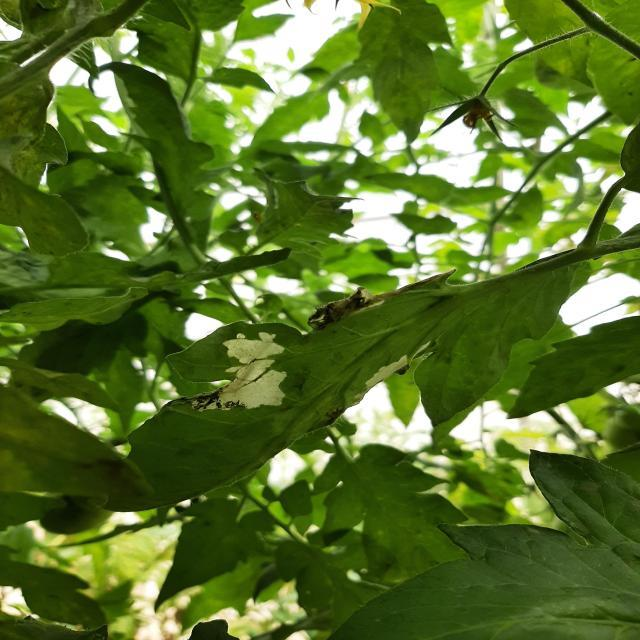Tuta absoluta: (205, 331, 288, 410)
